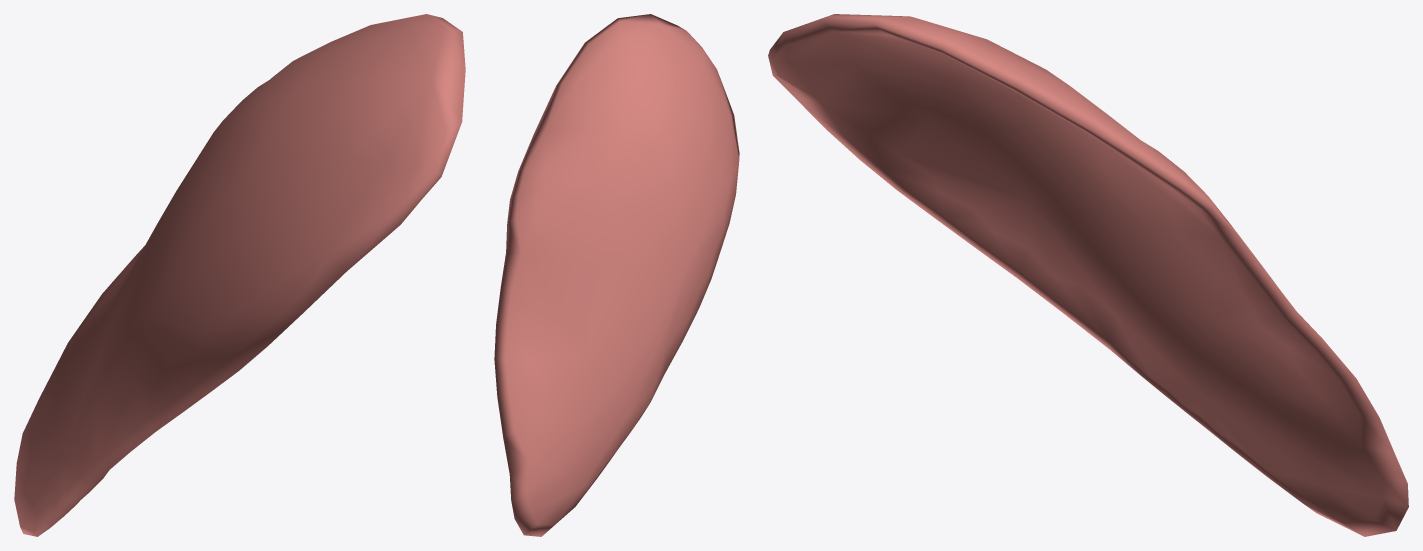
3 views of the same model, side by side, from view 1: azimuth 30°, elevation 25°; view 2: azimuth 150°, elevation 25°; view 3: azimuth 270°, elevation 25° (orthographic). The views are drawn at different scales.
Visible parts, largest first — view 1: ZA_23d5d0af72187ebd; view 2: ZA_23d5d0af72187ebd; view 3: ZA_23d5d0af72187ebd.
Part boxes in pixels (left/top/right/bottom): ZA_23d5d0af72187ebd: left=14, top=14, right=465, bottom=536; ZA_23d5d0af72187ebd: left=494, top=14, right=739, bottom=536; ZA_23d5d0af72187ebd: left=768, top=14, right=1408, bottom=536.
Bounding box in the file's own units: 0.00546 × 0.0136 × 0.0137.
